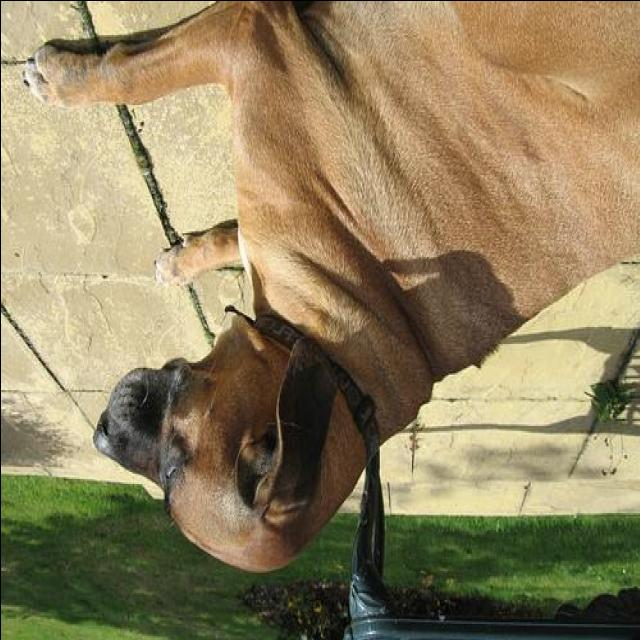rhodesian_ridgeback: (27, 3, 639, 570)
